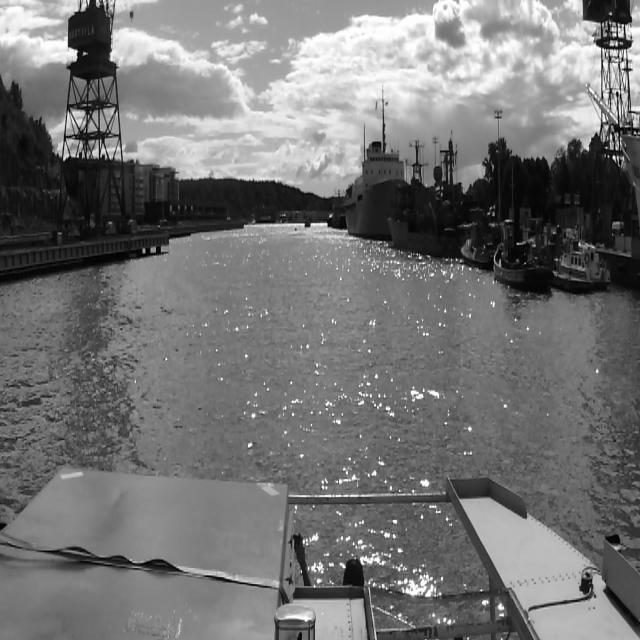ship: (341, 142, 408, 233), (384, 175, 448, 257), (492, 218, 552, 286), (555, 232, 611, 295), (331, 186, 347, 229)
